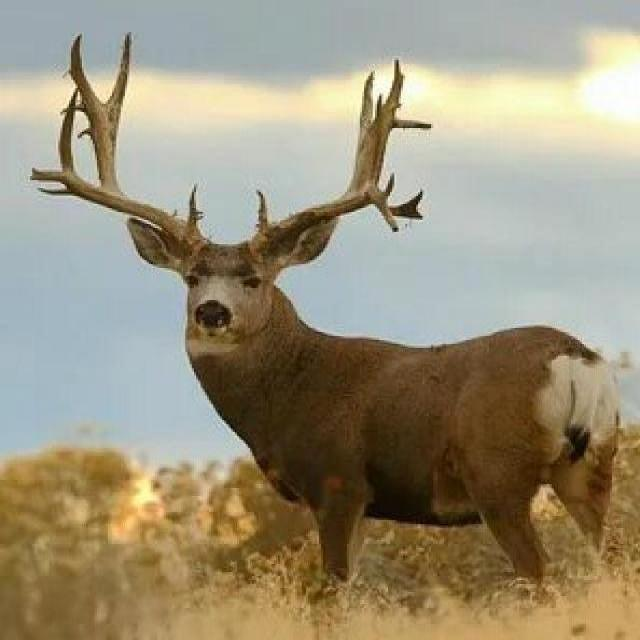deer: (10, 76, 640, 592)
